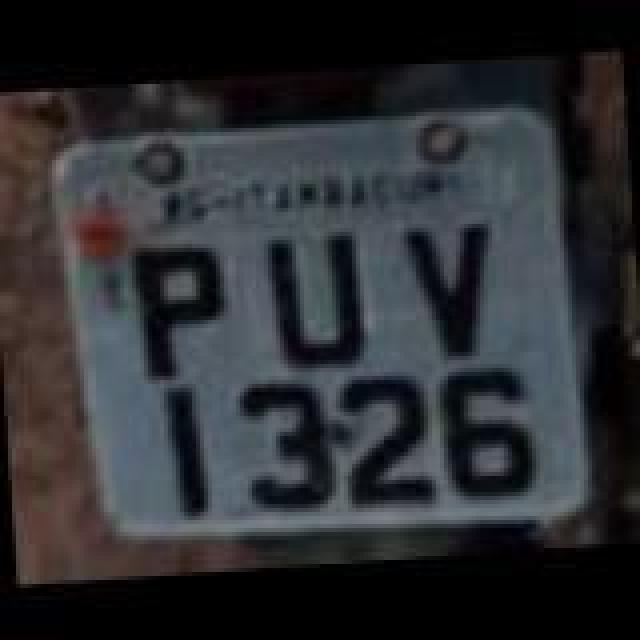1: (160, 388, 224, 524)
2: (334, 366, 434, 514)
3: (232, 372, 336, 524)
6: (434, 360, 542, 504)
P: (132, 244, 236, 396)
U: (262, 220, 378, 380)
V: (402, 212, 502, 364)
